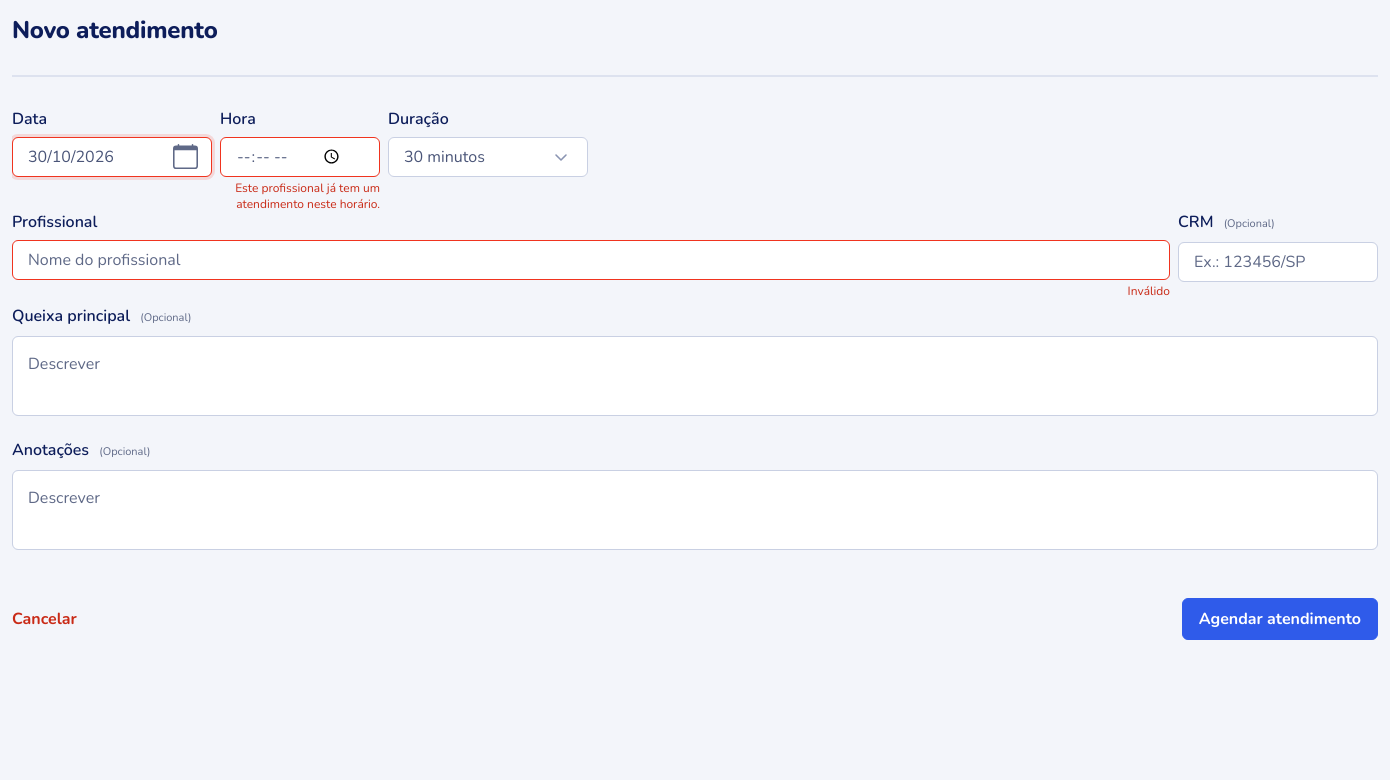
Test: ConsultationForm › maps the overlap 422 (scheduled_at) onto Data/Hora
Expected: the text with id "cf-time-error" reads "Este profissional já tem um atendimento neste horário.", top-left (235, 180), bottom-right (380, 212)
Expected: the text with id "cf-professional-error" reads "Inválido", top-left (1128, 283), bottom-right (1170, 299)
Type "15:00" into the time field with id "cf-time".
click(300, 157); type("15:00")  # box top-left (220, 137), bottom-right (380, 177)
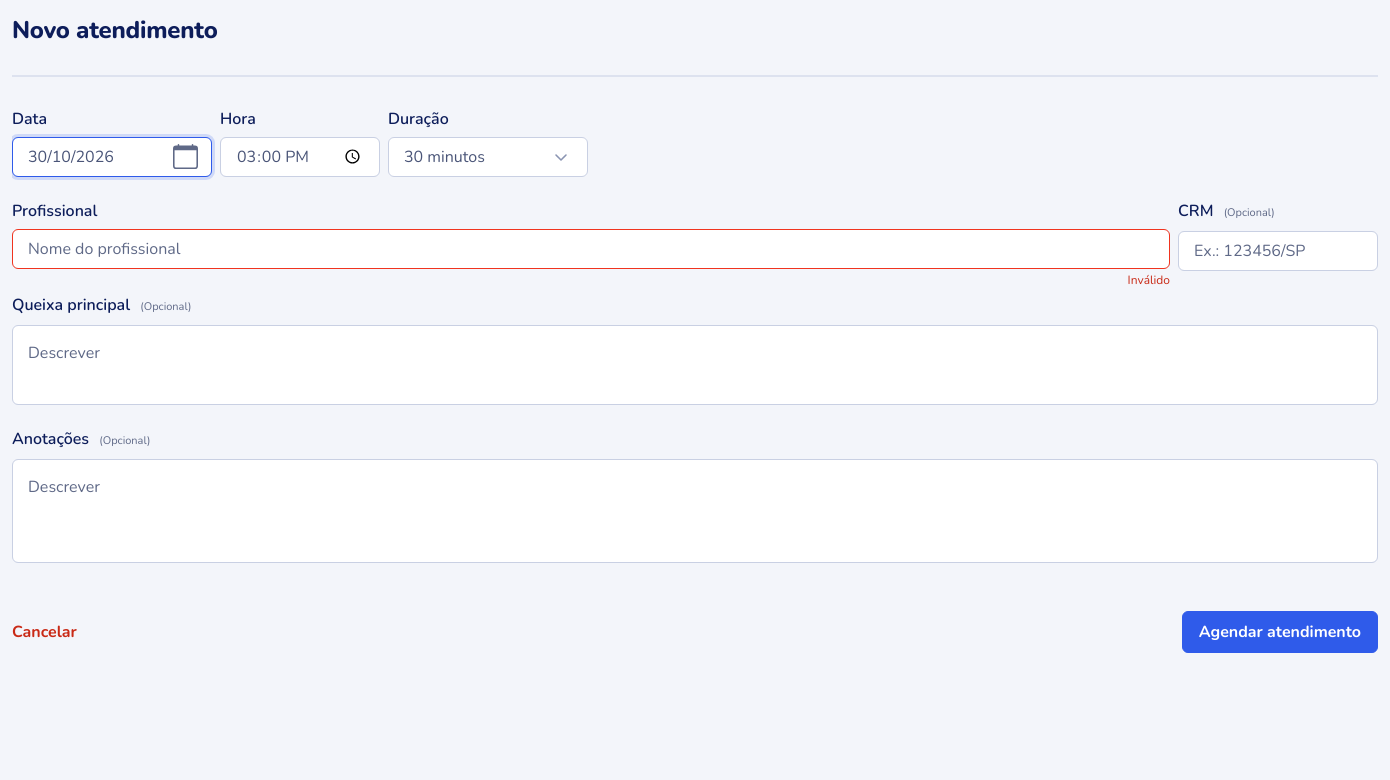
Result: the text with id "cf-time-error" is gone
